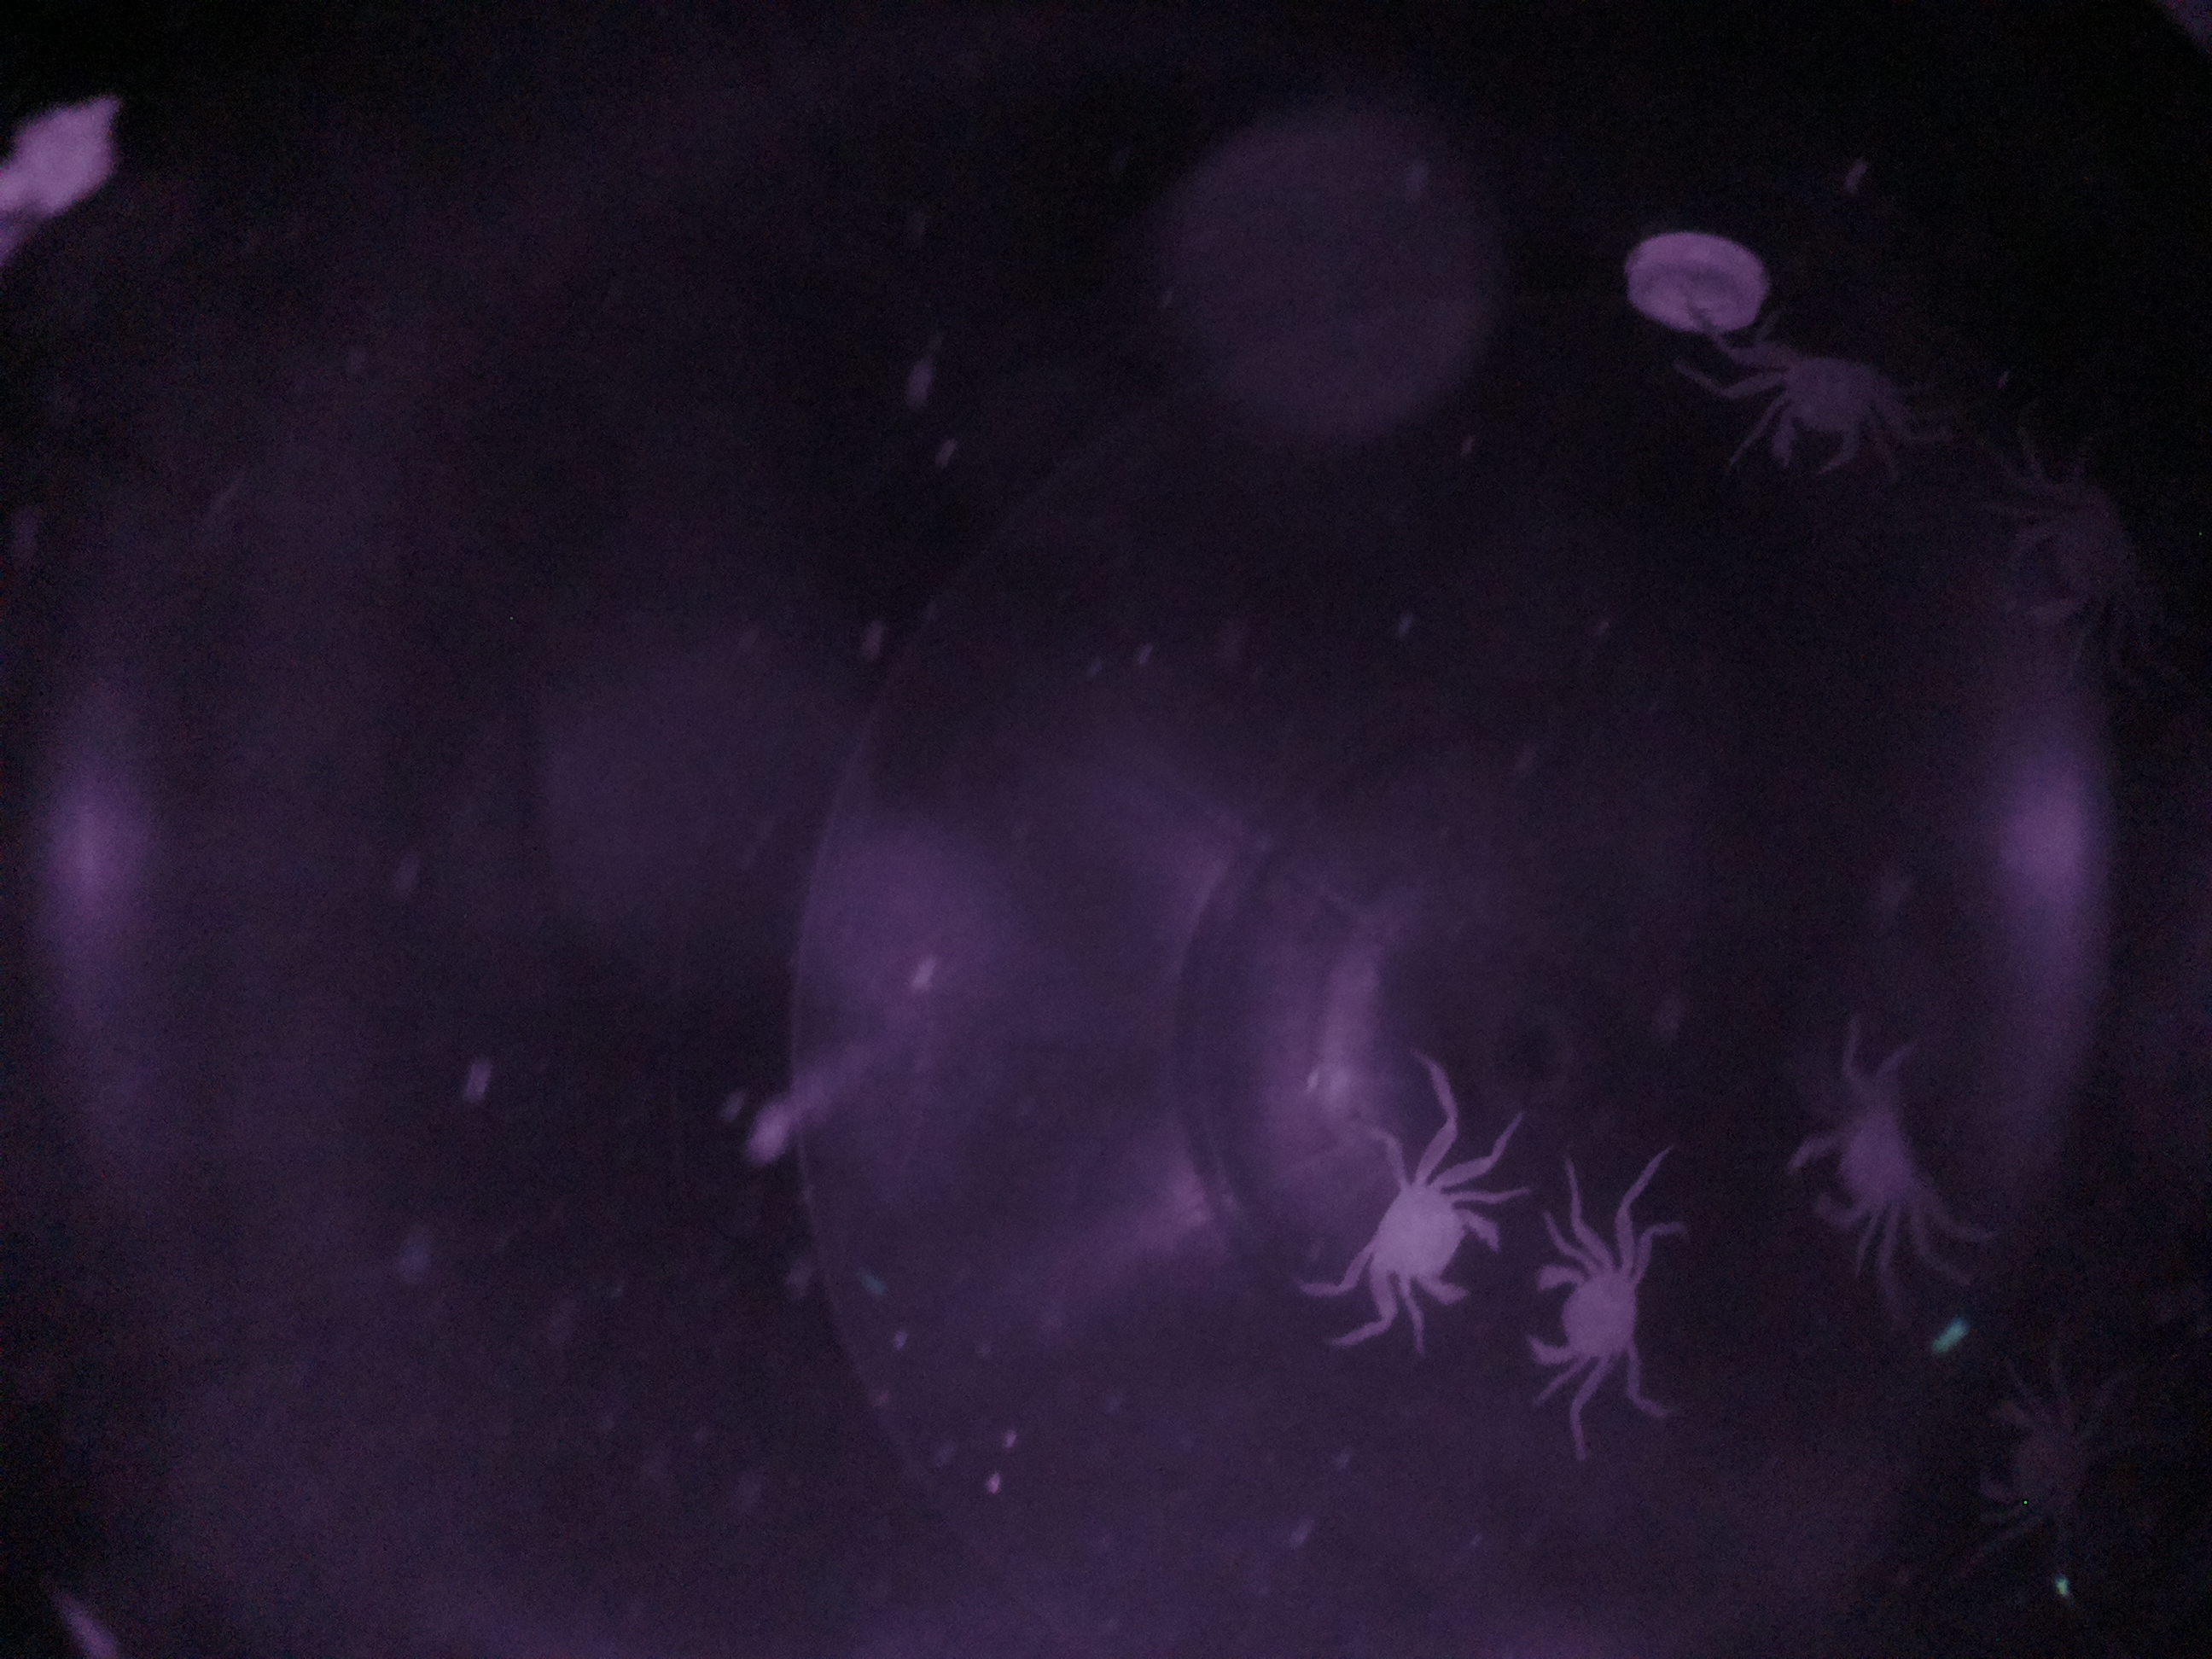Crab: (1519, 1204, 1712, 1403), (1336, 1143, 1500, 1326), (1766, 1094, 1954, 1248), (1730, 321, 1893, 497)
